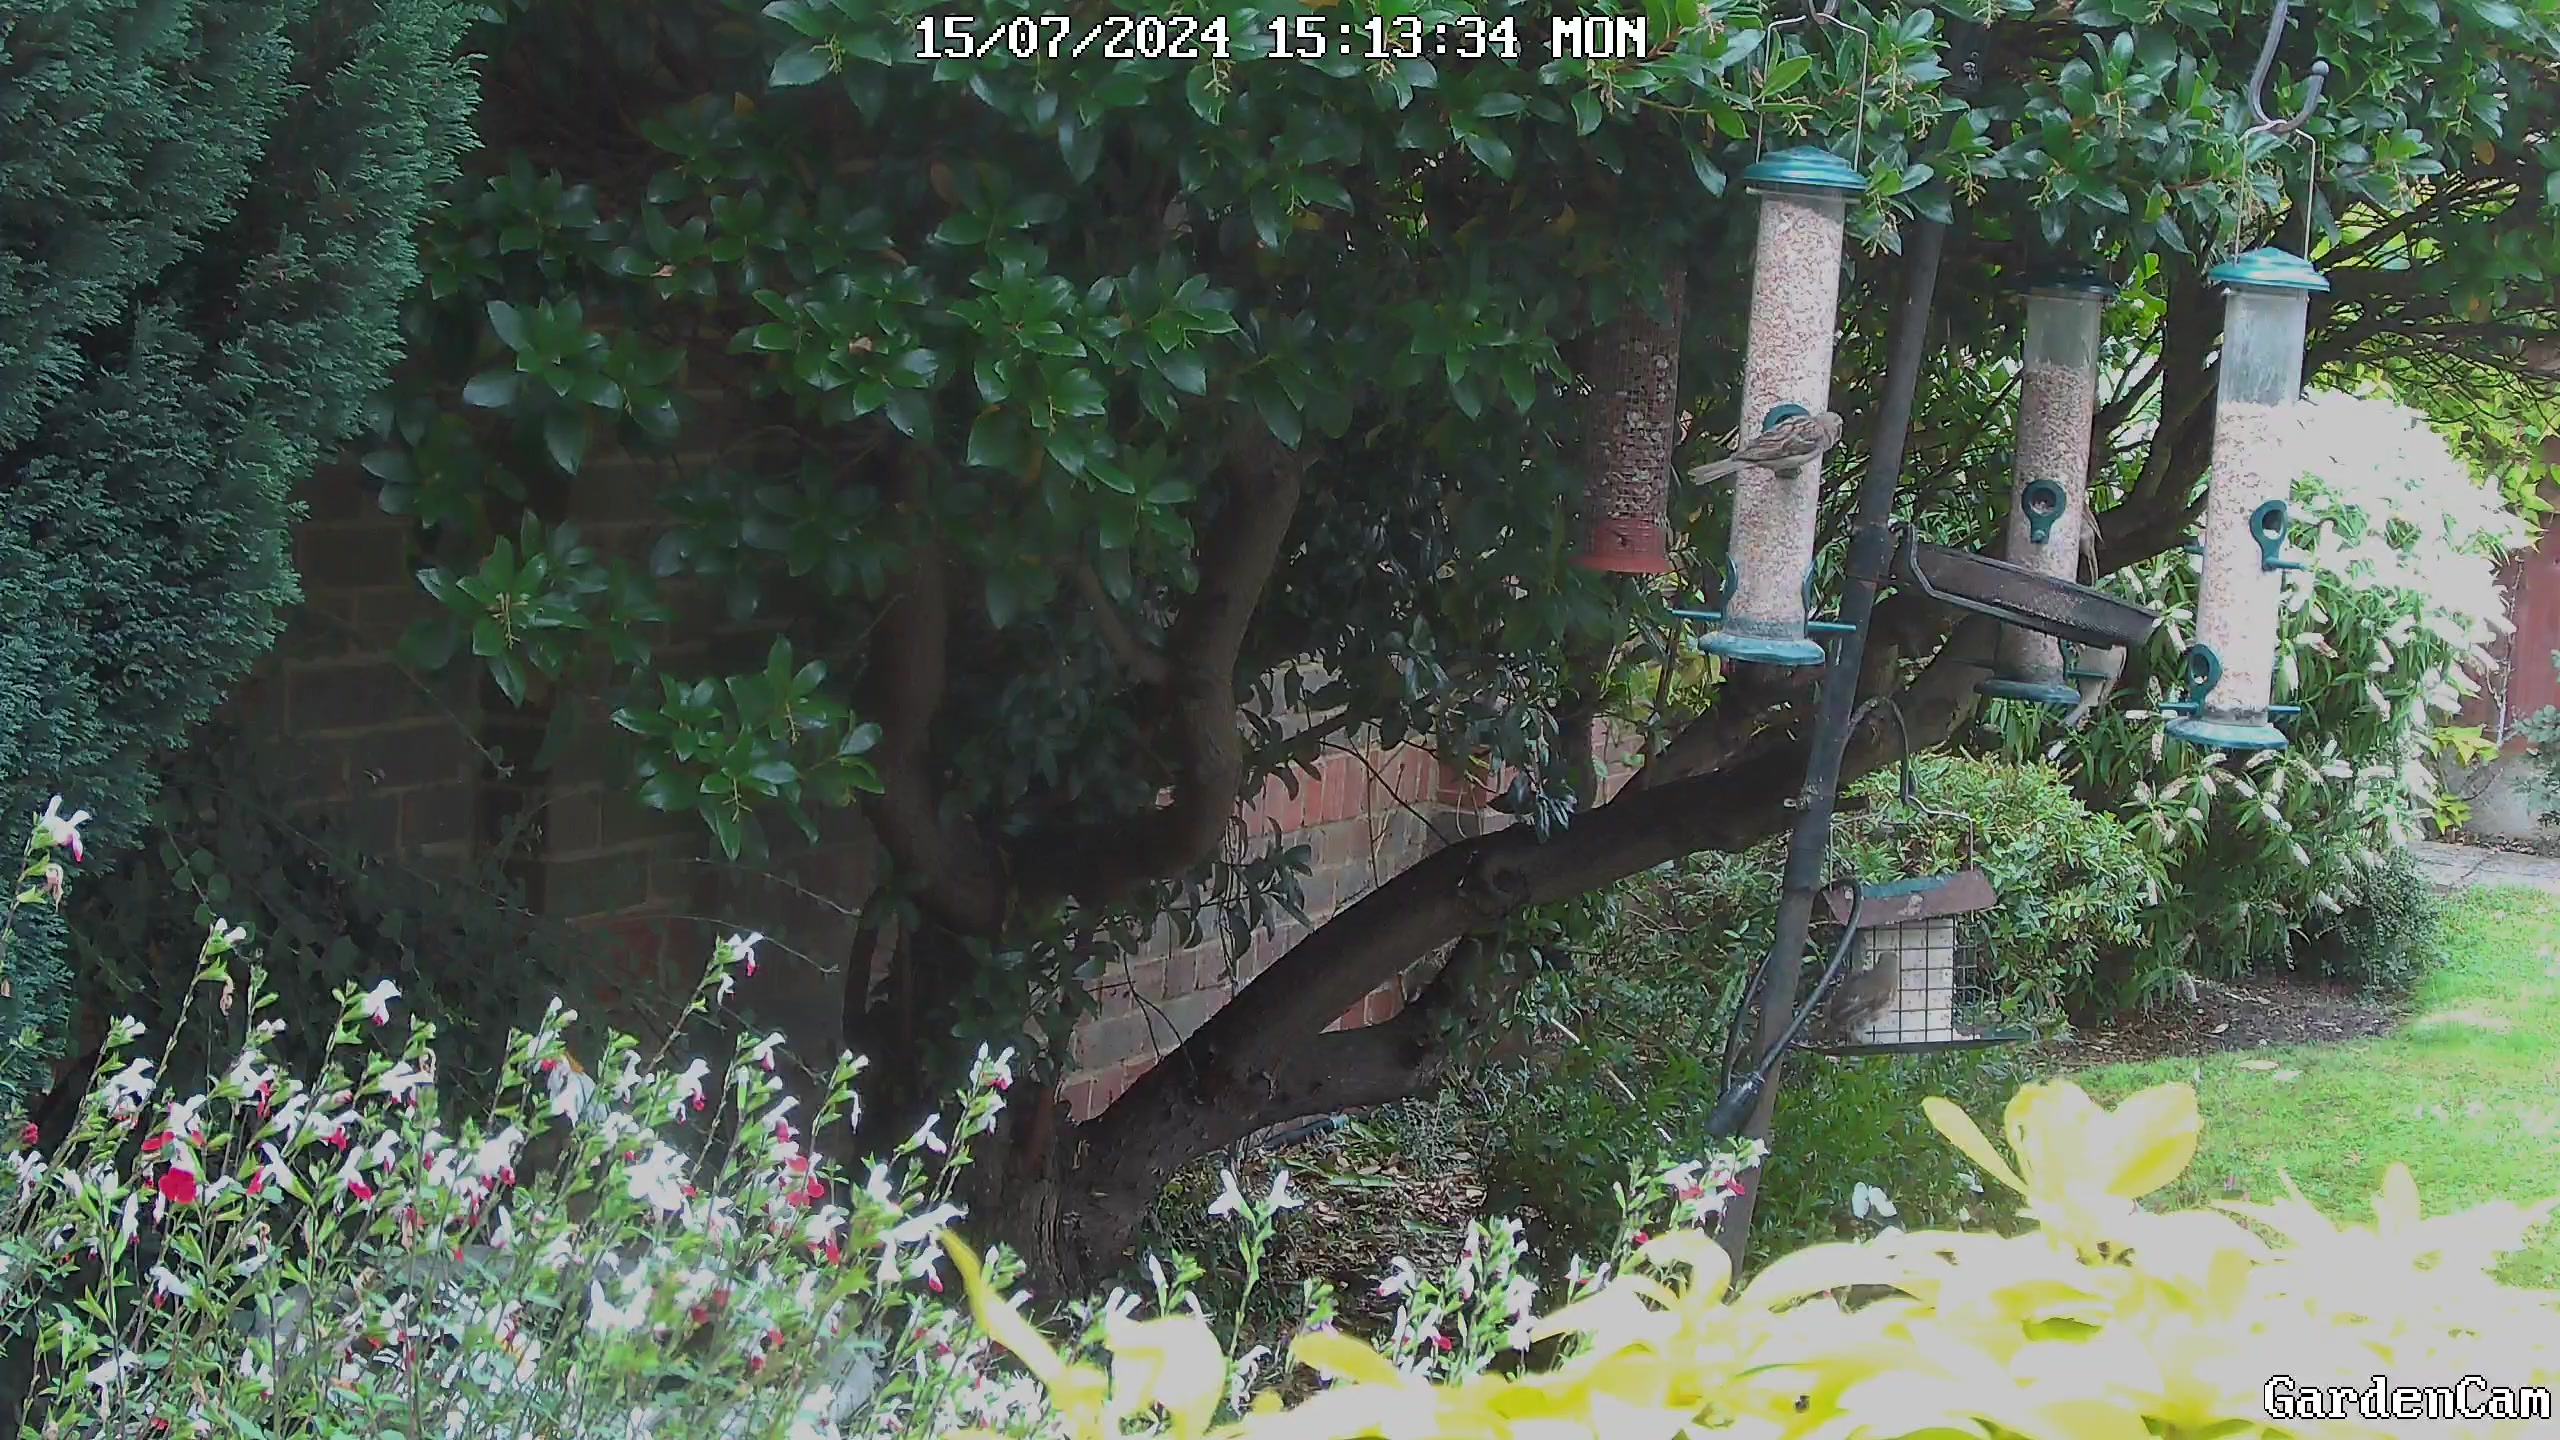House_Sparrow: (1691, 396, 1857, 508), (1799, 944, 1938, 1060), (2078, 484, 2112, 587)
